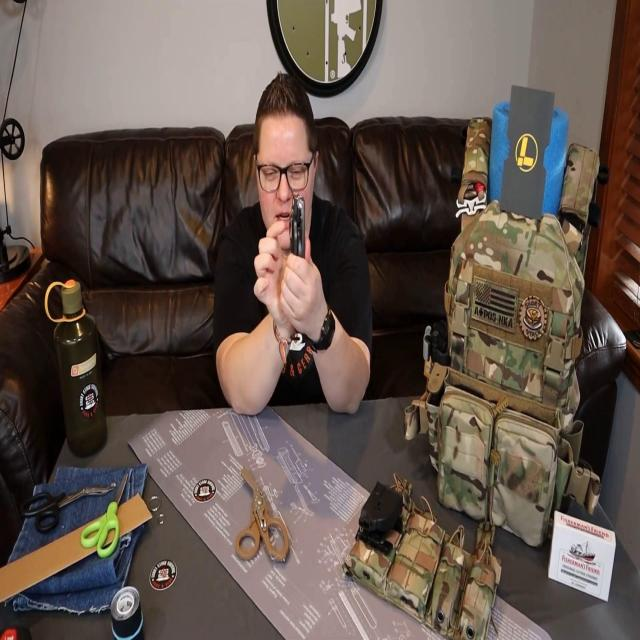scissor: (234, 466, 290, 562), (19, 481, 116, 533), (81, 472, 129, 558)
